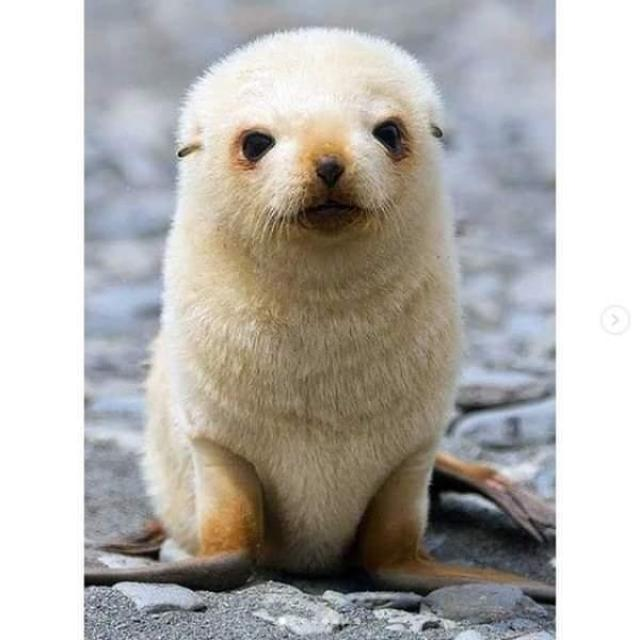WaterDog: (146, 20, 474, 592)
